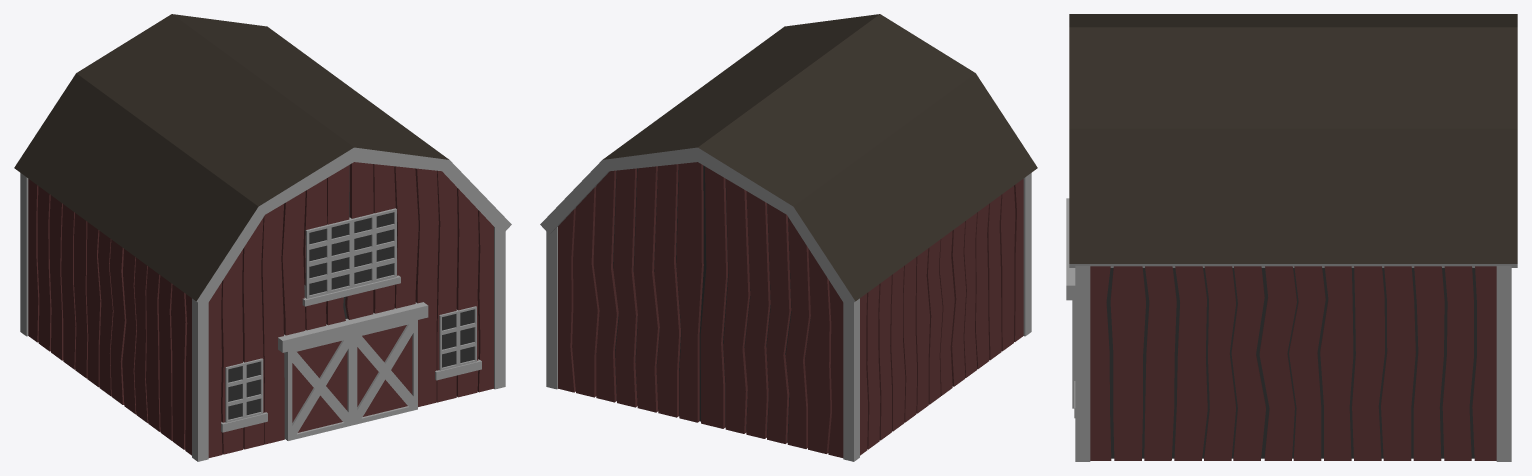
Rendered from Barn 1.fbx.
3 renders of one model, left to right at view 1: azimuth 30°, elevation 25°; view 2: azimuth 150°, elevation 25°; view 3: azimuth 270°, elevation 25°, orthographic. The views are drawn at different scales.
Visible parts, largest first — view 1: model_barn; view 2: model_barn; view 3: model_barn.
Part boxes in pixels (box(x1,y1,x2,y2)): model_barn: box(14, 14, 511, 461); model_barn: box(540, 14, 1037, 461); model_barn: box(1066, 14, 1517, 461).
Size of the model in its own units: 5.31 by 4.48 by 5.36.
